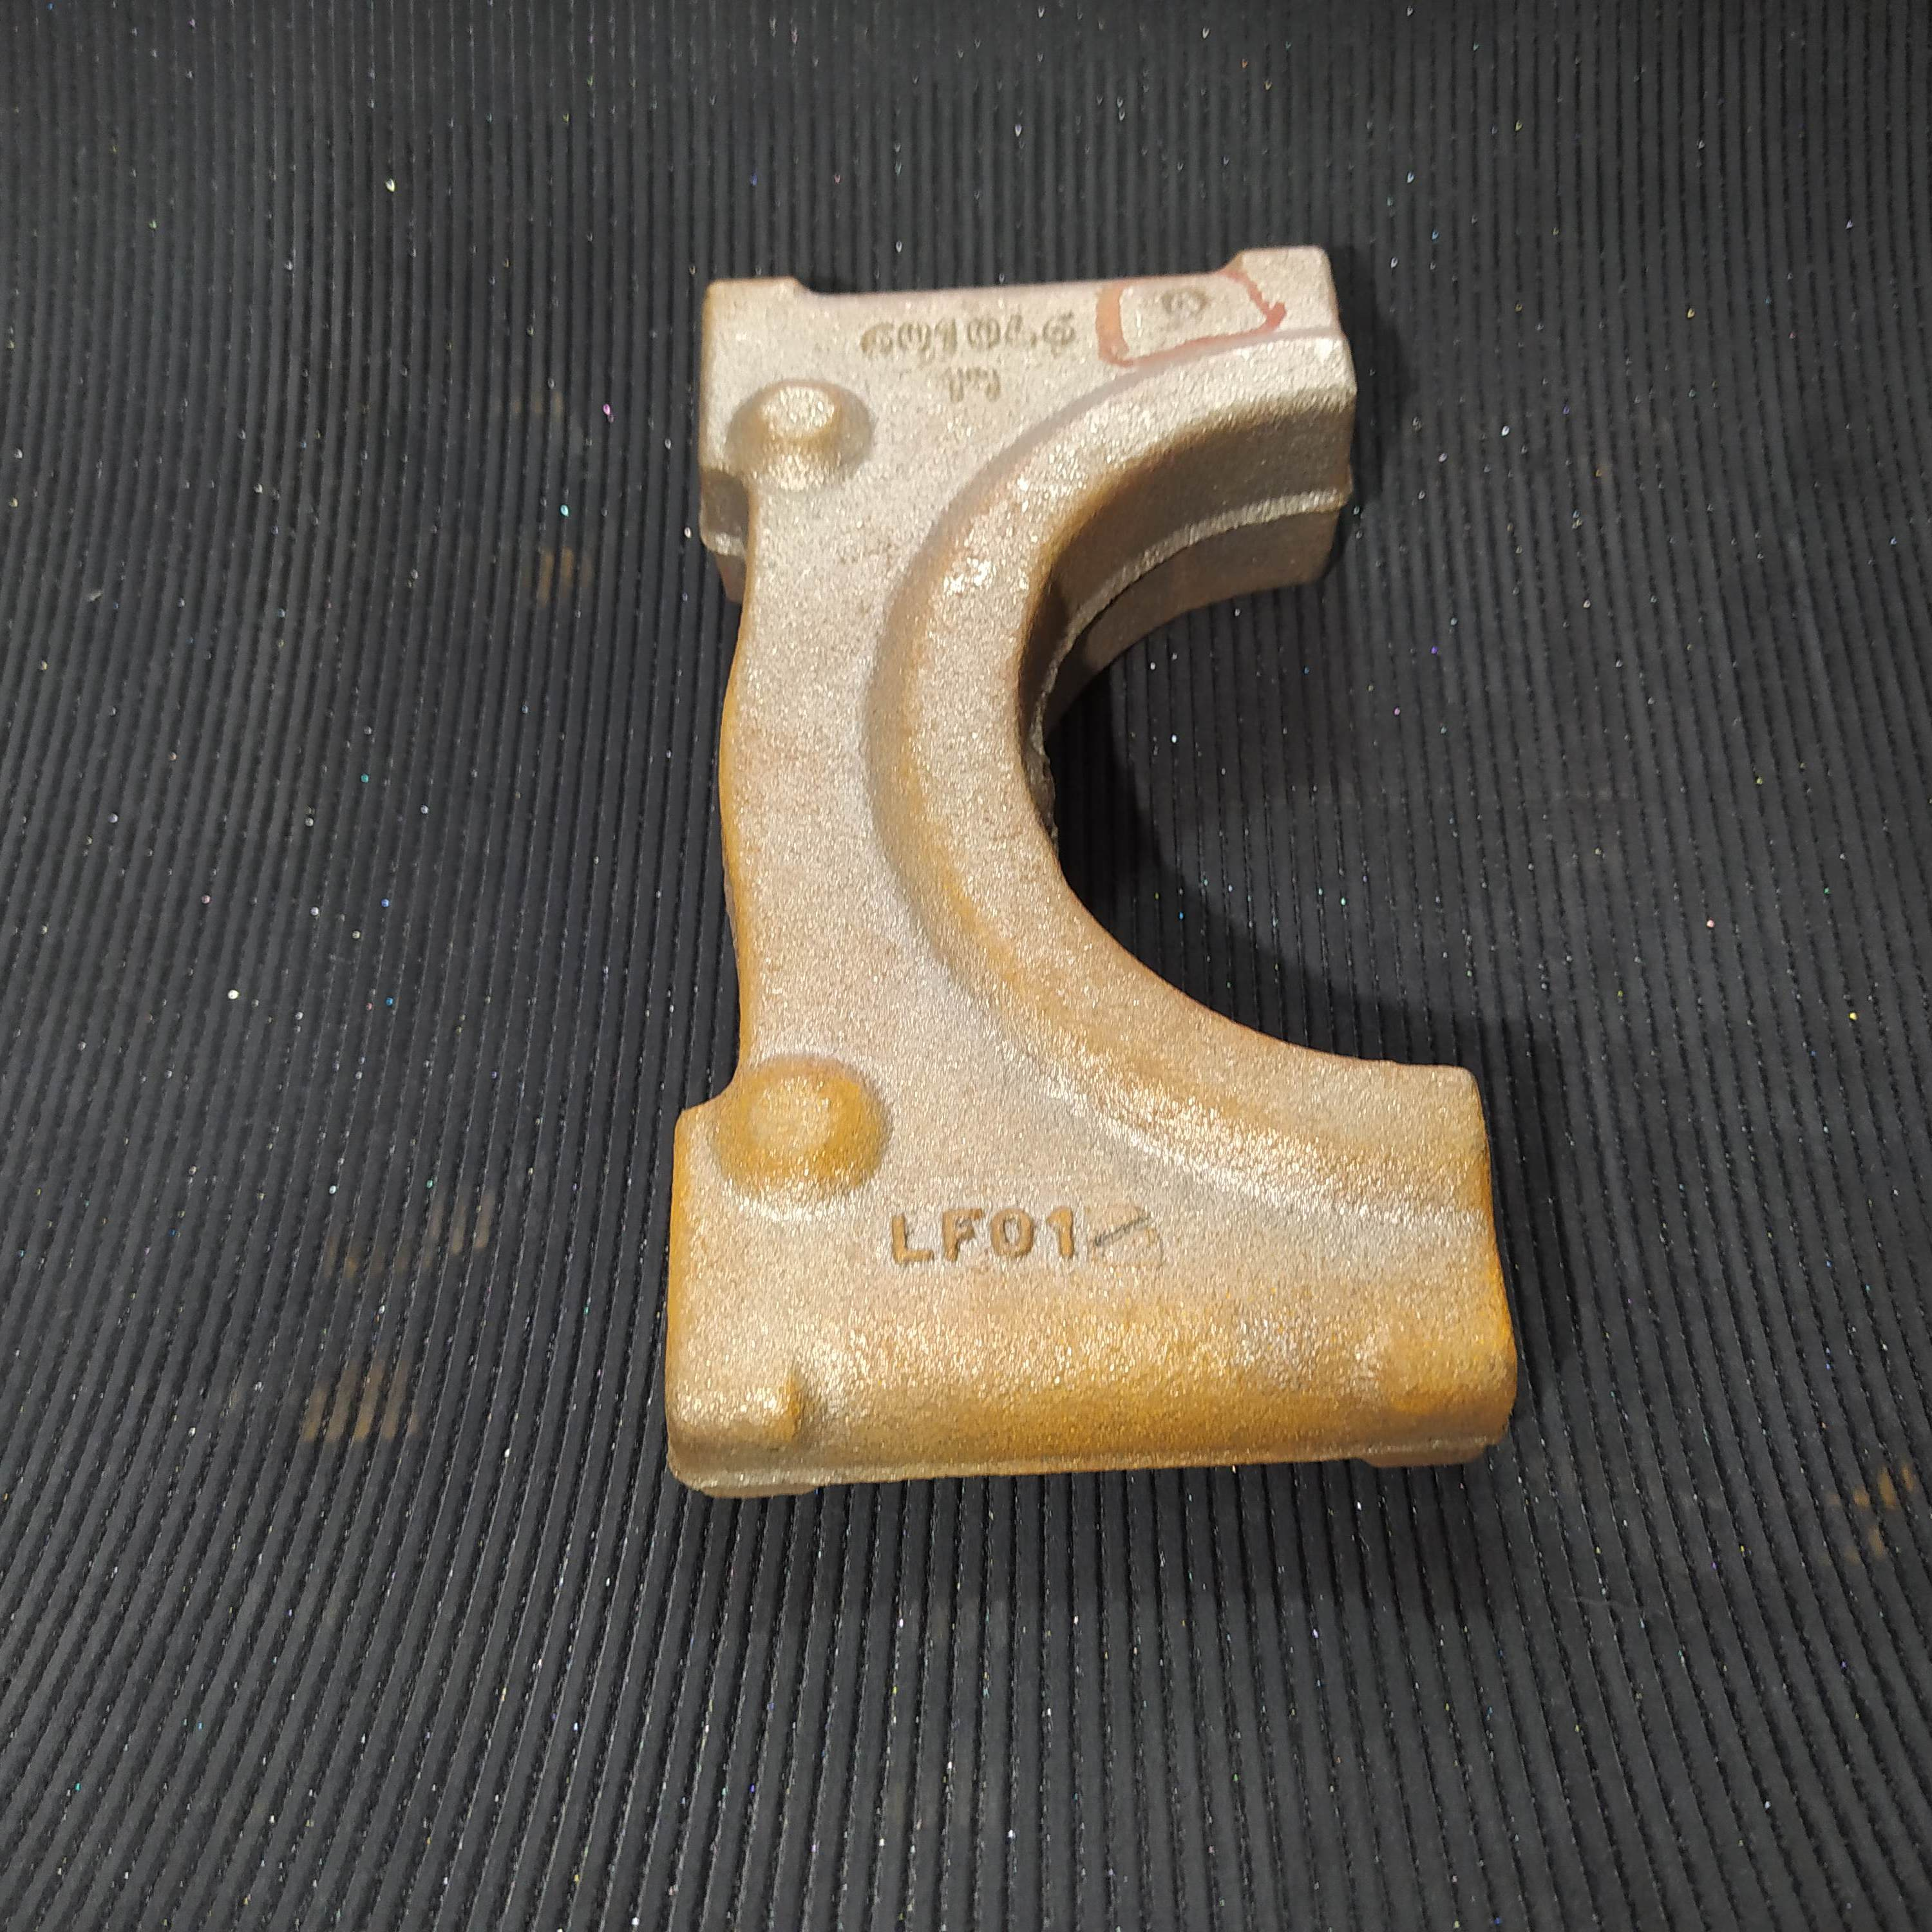buraco: (1154, 280, 1214, 331)
